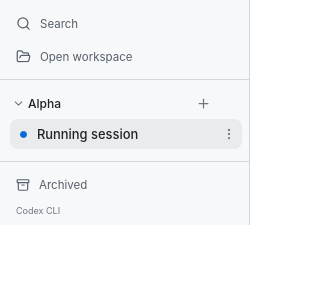
Test: CodexSidebar › exposes exactly Rename, Fork, and Archive and disables an unsafe full fork
Click the button named "Actions for Running session" at (228, 134), box [215,120,242,148]
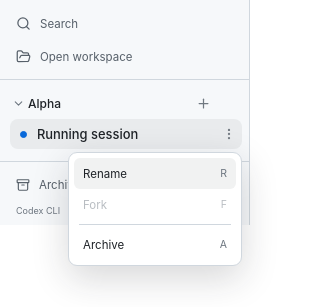
Now the menu item "Fork F" is disabled, box [74,189,236,220]
Press Escape in the menu, box [68,152,242,266]
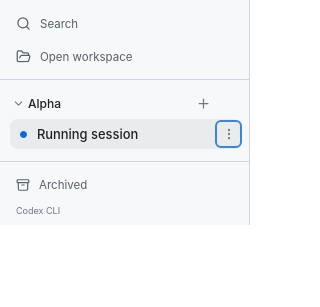
Now the menu is gone
